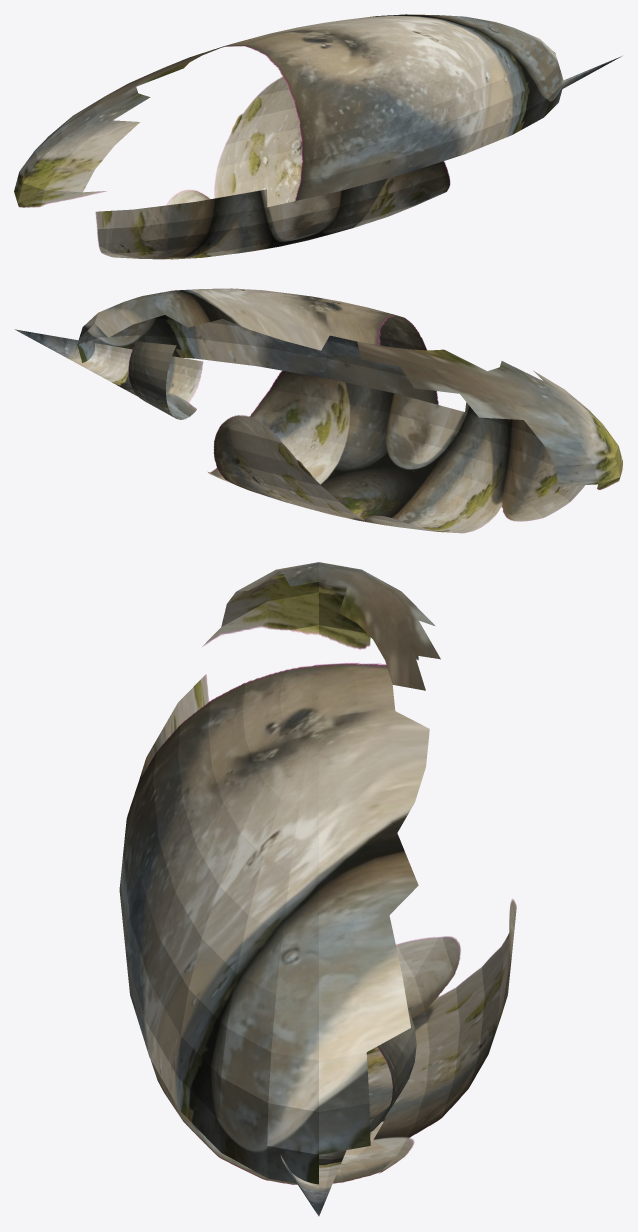
Rendered from rock.glb.
3 views of the same model, one above another, from view 1: azimuth 30°, elevation 25°; view 2: azimuth 150°, elevation 25°; view 3: azimuth 270°, elevation 25° (orthographic). The views are drawn at different scales.
Visible parts, largest first — view 1: rock; view 2: rock; view 3: rock.
Boxes of the visible parts, left/top/right/bottom form: rock: left=14, top=14, right=621, bottom=259; rock: left=14, top=288, right=622, bottom=533; rock: left=119, top=562, right=516, bottom=1216.
Size of the model in its own units: 1.55 by 0.4725 by 0.441.
1 material, 1 textured.
